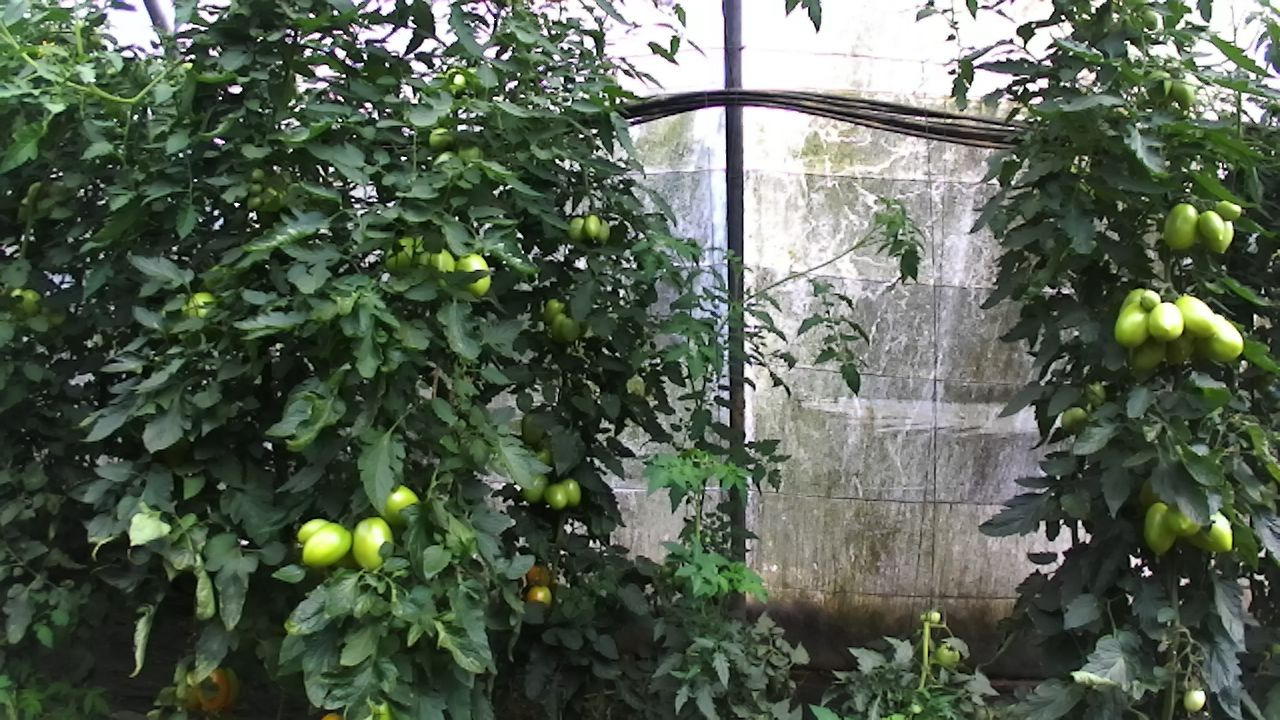tomato: (1190, 307, 1247, 366), (1181, 499, 1237, 559), (347, 513, 397, 574), (299, 520, 355, 571), (450, 247, 493, 300), (1141, 500, 1180, 558), (1173, 293, 1219, 340), (1126, 329, 1172, 376), (1161, 200, 1201, 253), (1160, 496, 1207, 541), (194, 662, 232, 714), (1145, 299, 1186, 344), (1111, 303, 1151, 349), (1194, 206, 1226, 244), (540, 481, 571, 514), (525, 580, 554, 609), (563, 213, 587, 243), (561, 476, 582, 510), (559, 315, 582, 345), (580, 212, 602, 243), (542, 297, 566, 325), (1139, 287, 1162, 312), (594, 215, 612, 246), (244, 193, 263, 213)
